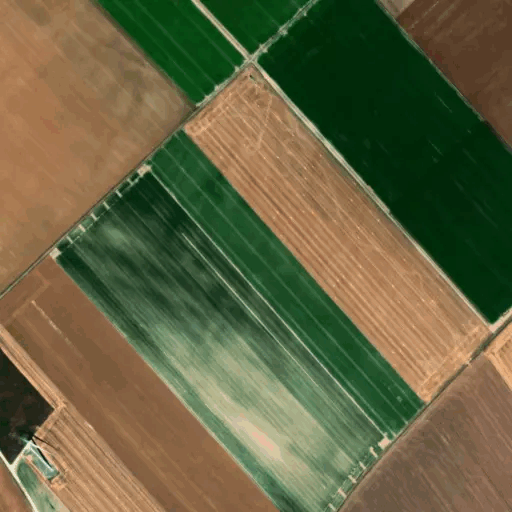wt: (21, 429, 58, 481)
